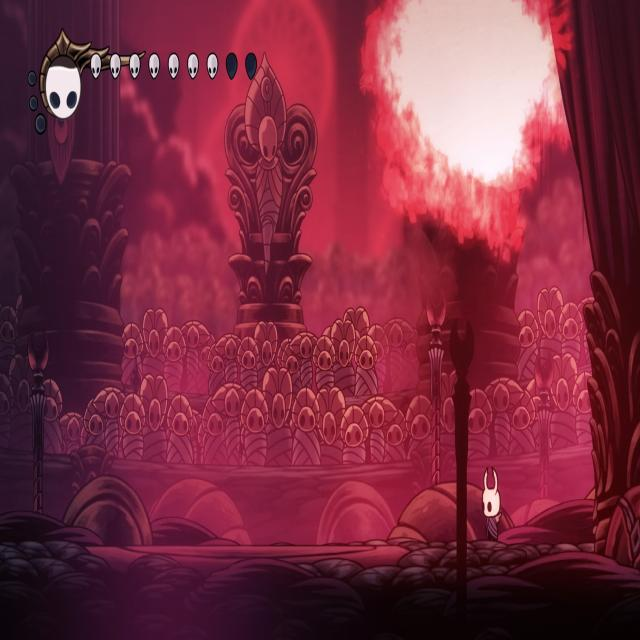Fireball: (368, 2, 571, 263)
Player: (480, 461, 504, 545)
